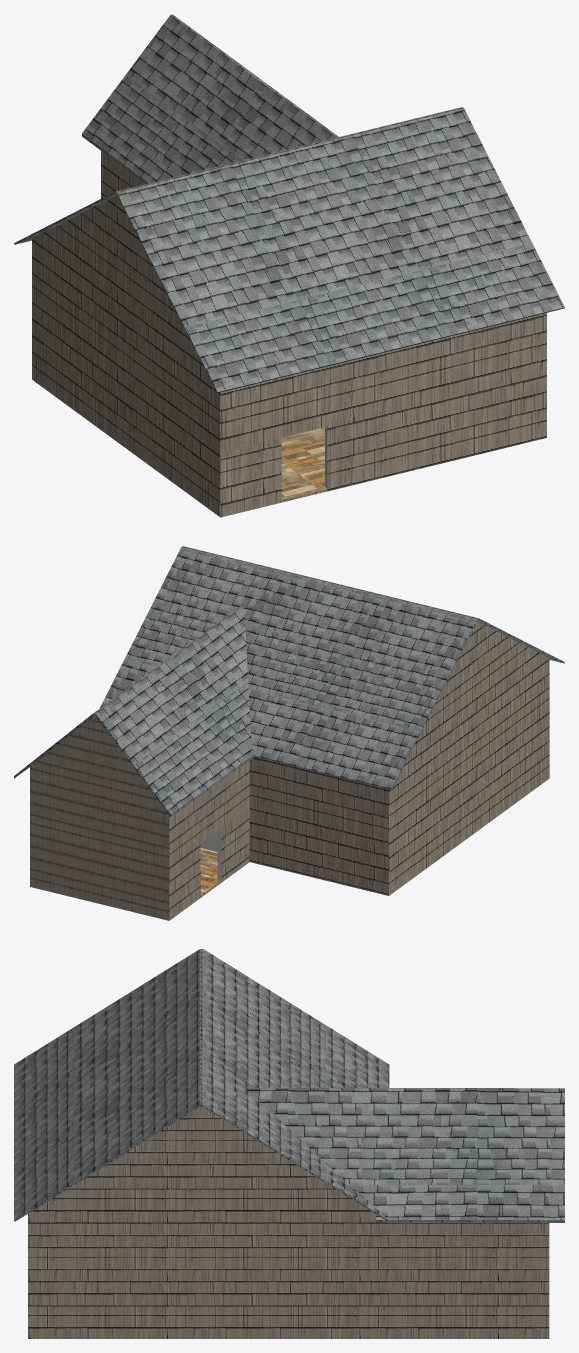
File: house textured.fbx
3 renders of one model, top to bottom at view 1: azimuth 30°, elevation 25°; view 2: azimuth 150°, elevation 25°; view 3: azimuth 270°, elevation 25°, orthographic. The views are drawn at different scales.
Visible parts, largest first — view 1: Cube; view 2: Cube; view 3: Cube.
Part boxes in pixels (box(x1,y1,x2,y2)): Cube: box(14, 14, 564, 517); Cube: box(14, 546, 564, 920); Cube: box(14, 949, 564, 1338).
Size of the model in its own units: 2340 by 1665 by 3488.
